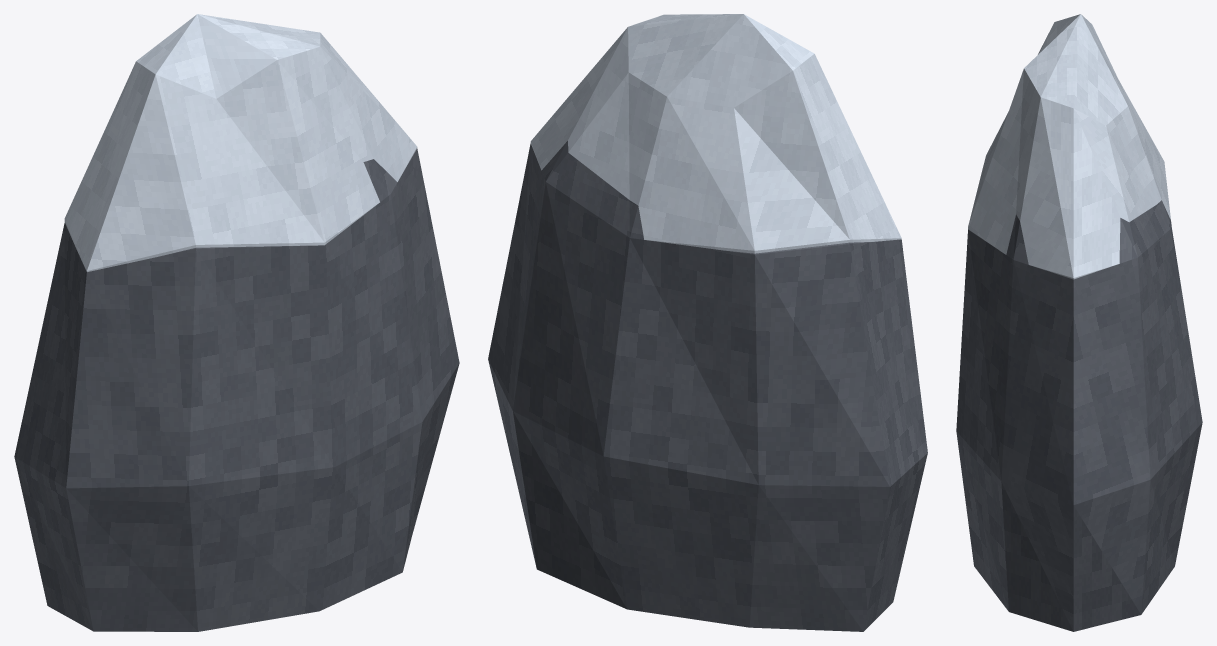
File: rock_face_snow.glb
3 views of the same model, side by side, from view 1: azimuth 30°, elevation 25°; view 2: azimuth 150°, elevation 25°; view 3: azimuth 270°, elevation 25° (orthographic). The views are drawn at different scales.
Parts seen in each view (by area): view 1: rock_face_snow; view 2: rock_face_snow; view 3: rock_face_snow.
Boxes of the visible parts, bbox=[...] form: rock_face_snow: bbox=[14, 14, 459, 631]; rock_face_snow: bbox=[488, 14, 927, 631]; rock_face_snow: bbox=[956, 14, 1202, 631].
Bounding box in the file's own units: 4 × 5.16 × 2.2.
Materials: 5 (5 with a texture image).
